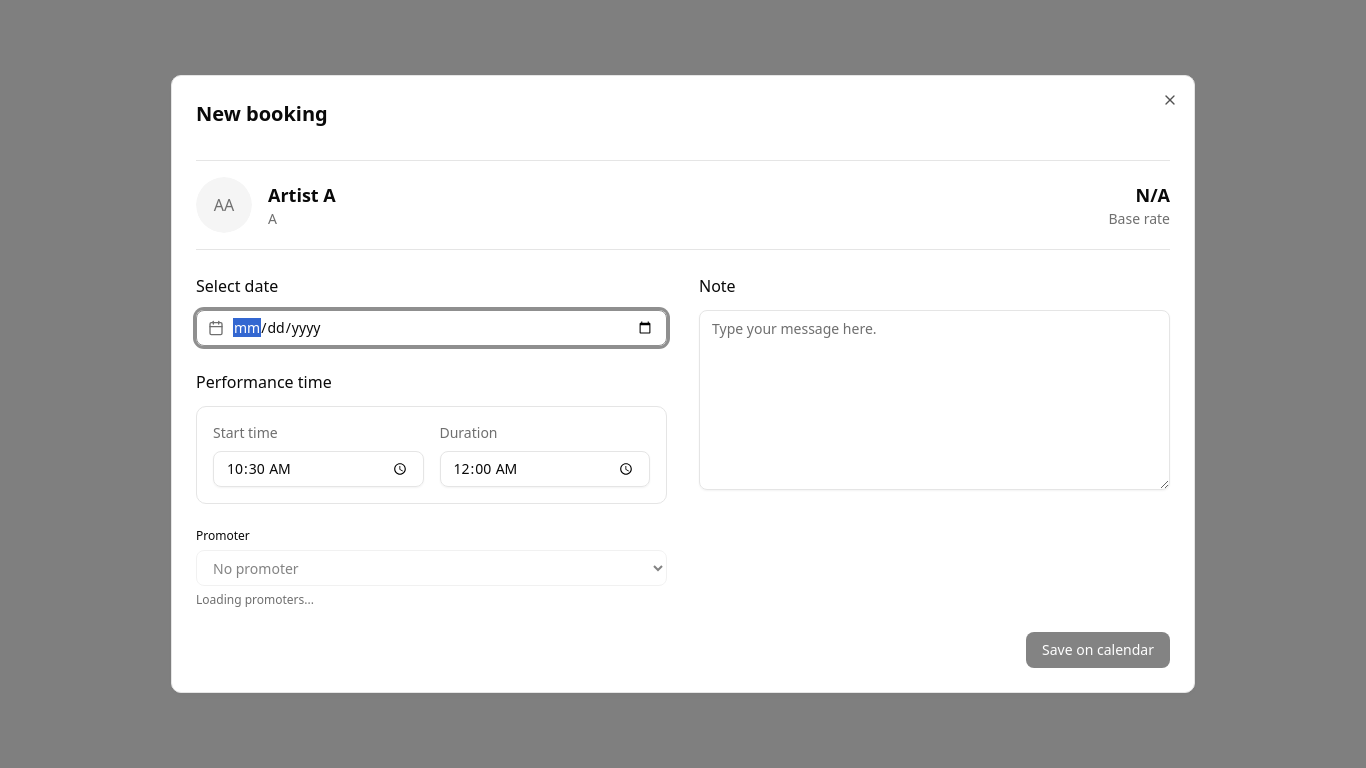
BB-09: ignores old reopen-same-session success completion without releasing a newer save
This screenshot has width=1366, height=768.
Earlier steps of the test are not shown.
Later steps or results of the test are not shown.
In the date field labelled "Select date": (432, 328) x1=196 y1=310 x2=667 y2=346, type "2030-01-03"
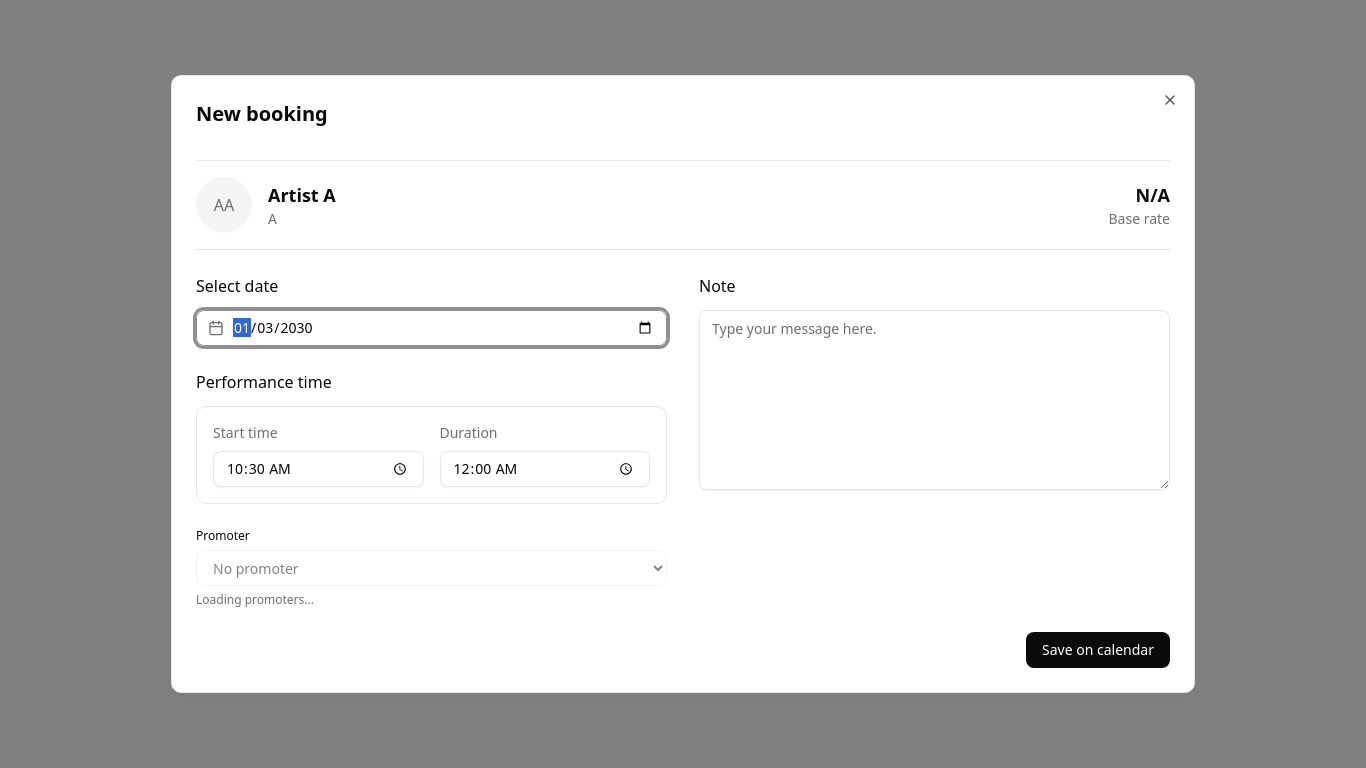
Expected: the button "Save on calendar" is enabled
Click the button "Save on calendar": click(1098, 650) x1=1026 y1=632 x2=1170 y2=668
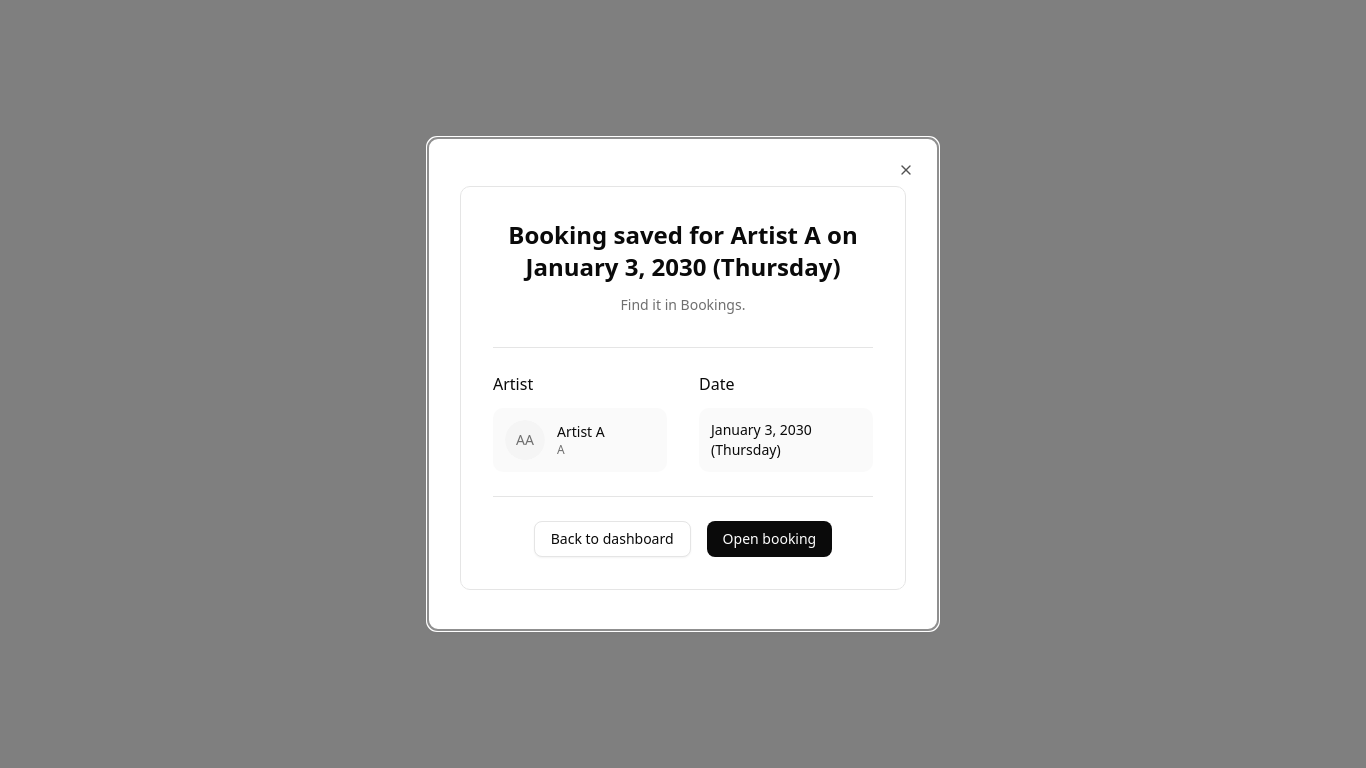
Expected: the text "Artist A" is shown, x1=557 y1=422 x2=605 y2=442
